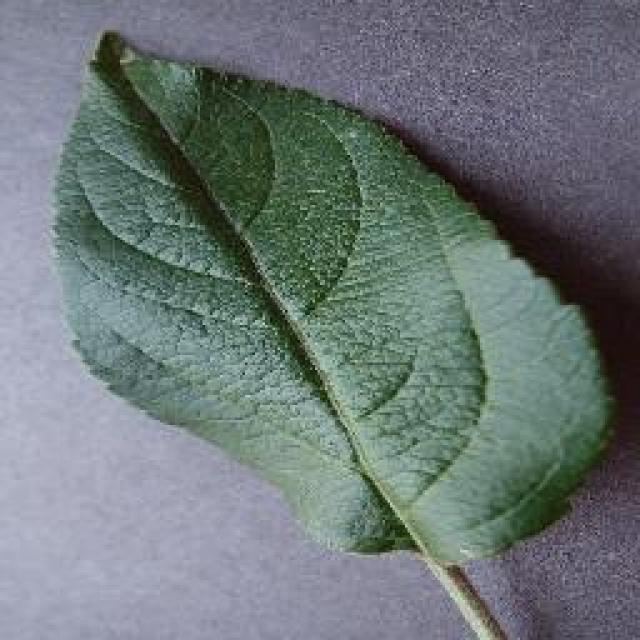Apple___healthy: (37, 7, 624, 640)
